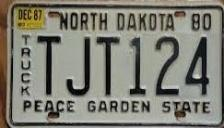1: (126, 34, 150, 96)
2: (153, 34, 184, 96)
4: (183, 34, 213, 97)
J: (64, 35, 93, 97)
T: (36, 34, 63, 97), (95, 35, 122, 97)
